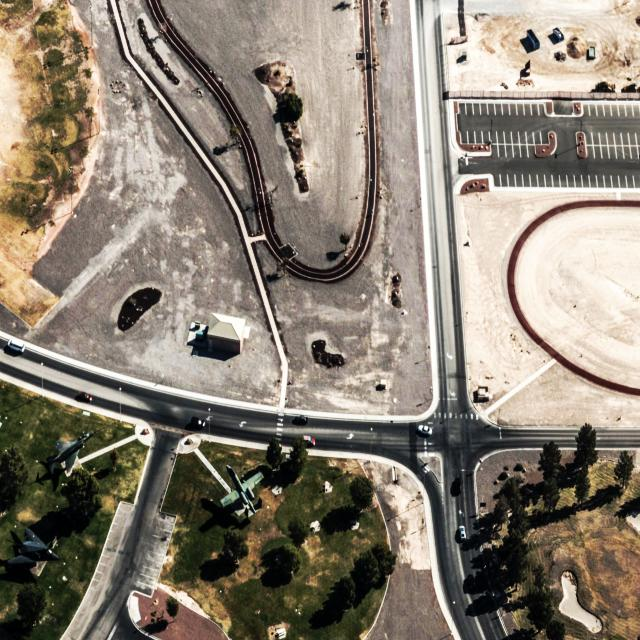Aircraft: (40, 421, 103, 484), (216, 460, 268, 524), (3, 523, 64, 577)
